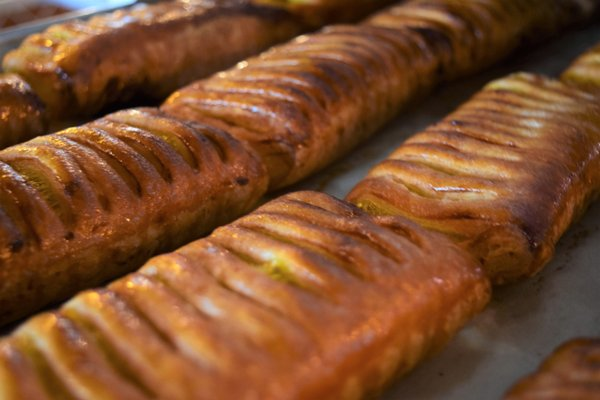salad: (23, 188, 493, 395), (155, 1, 574, 193), (0, 107, 271, 333), (342, 58, 600, 288), (0, 2, 306, 148)
